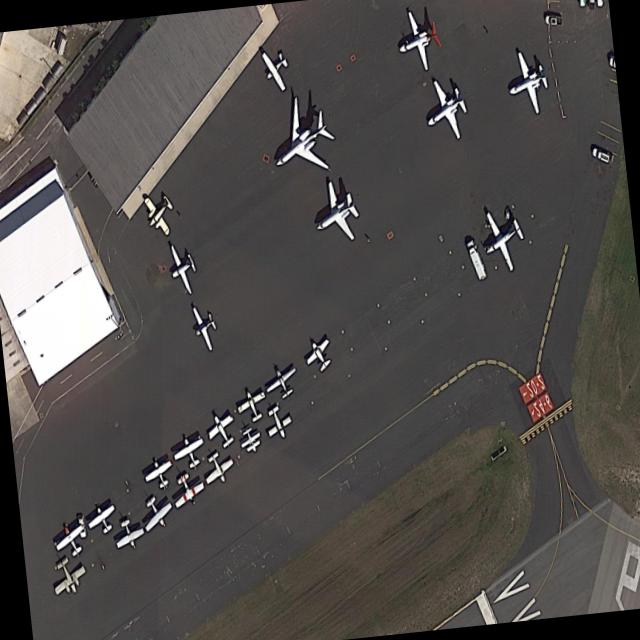large-vehicle: (463, 237, 488, 283)
plane: (258, 83, 342, 202), (303, 171, 365, 259), (414, 68, 473, 151), (473, 196, 531, 280), (498, 42, 553, 124), (388, 2, 444, 79), (162, 236, 201, 300), (46, 546, 89, 604), (138, 183, 180, 242), (255, 39, 294, 97), (51, 515, 90, 568), (186, 298, 222, 354), (166, 465, 207, 514), (136, 486, 174, 538), (198, 444, 237, 493), (262, 359, 301, 406), (170, 431, 208, 477), (203, 406, 239, 454), (302, 332, 336, 380), (141, 453, 177, 498), (109, 512, 146, 555), (84, 498, 120, 542), (234, 384, 269, 428), (261, 400, 295, 445), (235, 422, 264, 459)
small-vehicle: (590, 147, 610, 164), (544, 15, 561, 26), (588, 0, 595, 10), (578, 0, 585, 7), (596, 0, 603, 6)
